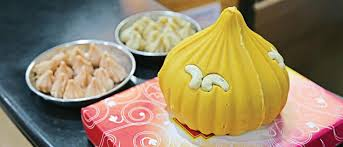modak: (152, 2, 299, 143)
